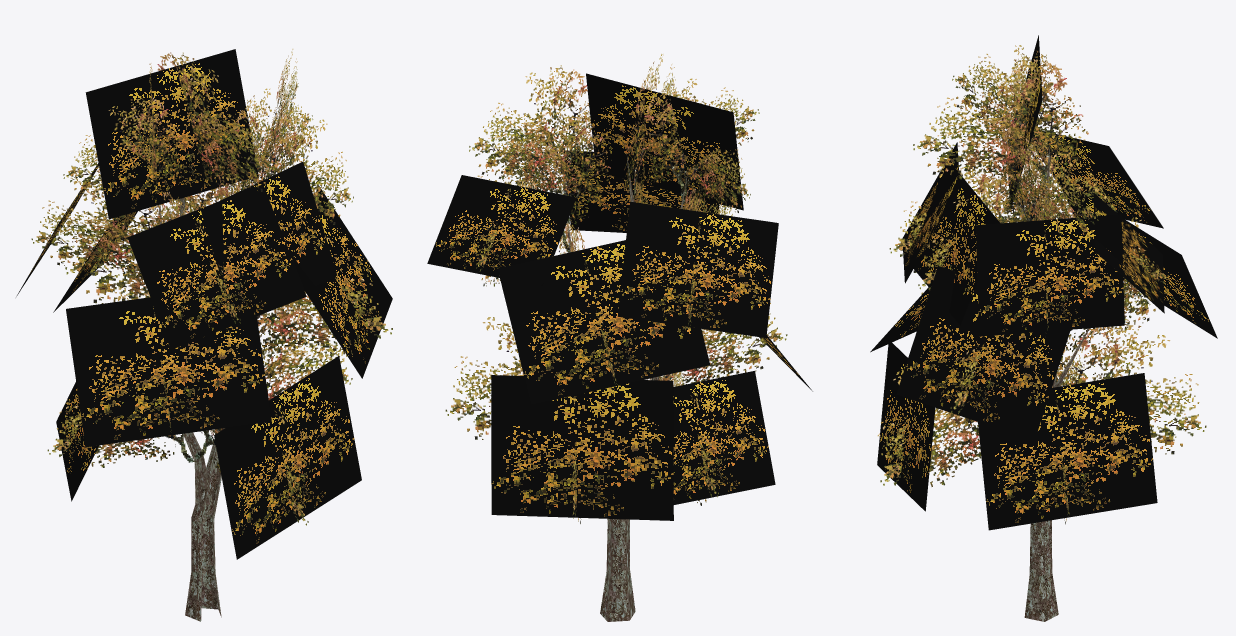
Rendered from stage-maya-p4-75.glb.
The picture shows the model from 3 angles, left to right: view 1: azimuth 30°, elevation 25°; view 2: azimuth 150°, elevation 25°; view 3: azimuth 270°, elevation 25°; orthographic projection. The views are drawn at different scales.
Bounding box in the file's own units: 21.3 × 33.7 × 20.53.
3 materials, 3 textured.
